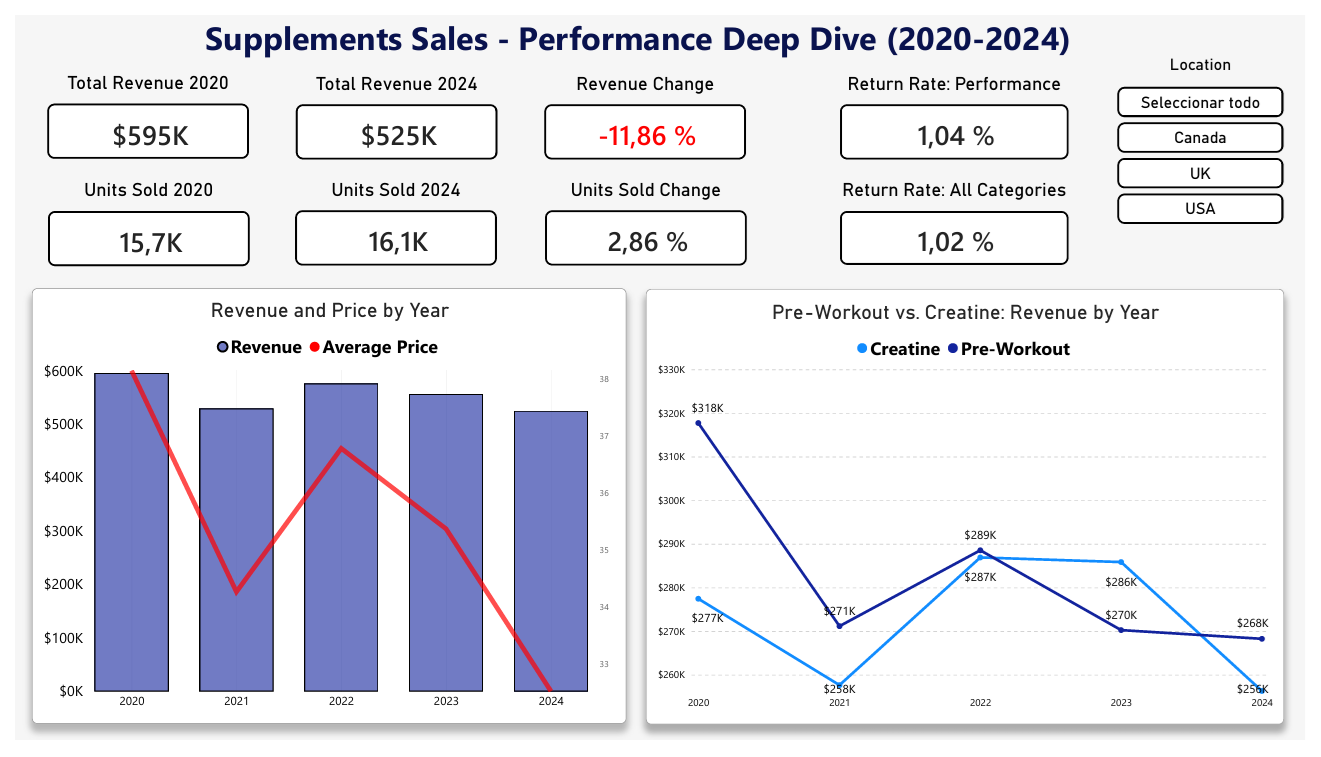

What the dashboard file says about the page in this screenshot:
{"tool":"powerbi","page":{"name":"Performance","canvas":[1920,1080],"ordinal":1},"visuals":[{"type":"cardVisual","title":"Units Sold 2020","fields":{"Data":["_Medidas.units_sold_2020(K)"]},"box":[48.8,243.8,300,130],"z":0},{"type":"lineStackedColumnComboChart","title":"Revenue and Price by Year","fields":{"Category":["fact_sales.date.Variación.Jerarquía de fechas.Año"],"Y":["_Medidas.total_revenue(K)"],"Y2":["Avg(fact_sales.price)"]},"box":[25,407,885.1,649],"z":1000},{"type":"lineChart","title":"Pre-Workout vs. Creatine: Revenue by Year","fields":{"Category":["fact_sales.date.Variación.Jerarquía de fechas.Año"],"Series":["dim_products.product"],"Y":["_Medidas.total_revenue(K)"]},"box":[939.1,408.2,950,648.4],"z":2000},{"type":"advancedSlicerVisual","title":"Location ","fields":{"Values":["dim_locations.location"]},"box":[1641.2,59.9,247.2,273.2],"z":3000},{"type":"textbox","box":[0,0,1576.7,117.4],"z":4000},{"type":"cardVisual","title":"Return Rate: Performance","fields":{"Data":["_Medidas.avg_units_returned"]},"box":[1228.1,84.9,339.5,130],"z":5000},{"type":"cardVisual","title":"Total Revenue 2020","fields":{"Data":["_Medidas.total_revenue_2020(K)"]},"box":[48.5,84.1,300,130],"z":6000},{"type":"cardVisual","title":"Total Revenue 2024","fields":{"Data":["_Medidas.total_revenue_2024(K)"]},"box":[417.5,84.9,300,130],"z":7000},{"type":"cardVisual","title":"Revenue Change","fields":{"Data":["_Medidas.revenue_change_pct"]},"box":[788.5,84.9,300,130],"z":8000},{"type":"cardVisual","title":"Return Rate: All Categories","fields":{"Data":["_Medidas.return_rate_all_categories"]},"box":[1228.1,243.8,339.5,128.2],"z":9000},{"type":"cardVisual","title":"Units Sold 2024","fields":{"Data":["_medidas.units_sold_2024(K)"]},"box":[416.7,243.3,300,130],"z":10000},{"type":"cardVisual","title":"Units Sold Change","fields":{"Data":["_medidas.units_change_pct"]},"box":[788.7,242.8,300,130],"z":11000}]}

Visuals, with their boxes in screenshot pixels (x1, y1, x2, y2), scaled from the page's 1920x1080 canvas onto the 1321x757 screenshot:
"Units Sold 2020" cardVisual: bbox=(34, 171, 240, 262)
"Revenue and Price by Year" lineStackedColumnComboChart: bbox=(17, 285, 626, 740)
"Pre-Workout vs. Creatine: Revenue by Year" lineChart: bbox=(646, 286, 1300, 741)
"Location " advancedSlicerVisual: bbox=(1129, 42, 1299, 233)
textbox: bbox=(0, 0, 1085, 82)
"Return Rate: Performance" cardVisual: bbox=(845, 60, 1079, 151)
"Total Revenue 2020" cardVisual: bbox=(33, 59, 240, 150)
"Total Revenue 2024" cardVisual: bbox=(287, 60, 494, 151)
"Revenue Change" cardVisual: bbox=(543, 60, 749, 151)
"Return Rate: All Categories" cardVisual: bbox=(845, 171, 1079, 261)
"Units Sold 2024" cardVisual: bbox=(287, 171, 493, 262)
"Units Sold Change" cardVisual: bbox=(543, 170, 749, 261)
